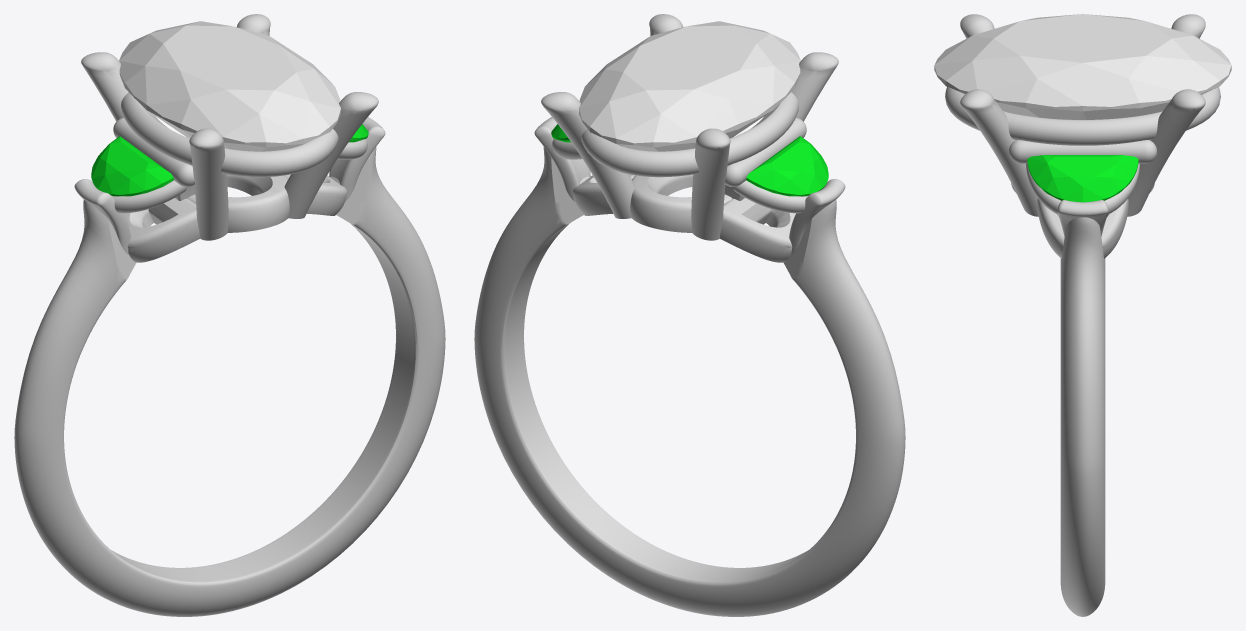
File: JennaPTemDiaeng_blender.glb
3 renders of one model, left to right at view 1: azimuth 30°, elevation 25°; view 2: azimuth 150°, elevation 25°; view 3: azimuth 270°, elevation 25°, orthographic.
Visible parts, largest first — view 1: Jenna PT for 3d model, Jenna dia for 3d model, Jenna emerald for 3d model.001; view 2: Jenna PT for 3d model, Jenna dia for 3d model, Jenna emerald for 3d model.001; view 3: Jenna PT for 3d model, Jenna dia for 3d model, Jenna emerald for 3d model.
Part boxes in pixels (left/top/right/bottom): Jenna PT for 3d model: left=14, top=14, right=445, bottom=616; Jenna dia for 3d model: left=119, top=21, right=340, bottom=151; Jenna emerald for 3d model.001: left=91, top=136, right=174, bottom=196; Jenna PT for 3d model: left=474, top=14, right=905, bottom=616; Jenna dia for 3d model: left=579, top=21, right=800, bottom=151; Jenna emerald for 3d model.001: left=745, top=136, right=828, bottom=196; Jenna PT for 3d model: left=945, top=14, right=1220, bottom=616; Jenna dia for 3d model: left=934, top=14, right=1231, bottom=119; Jenna emerald for 3d model: left=1027, top=155, right=1138, bottom=202.
Bounding box in the file's own units: 20.08 × 24.77 × 12.01.
